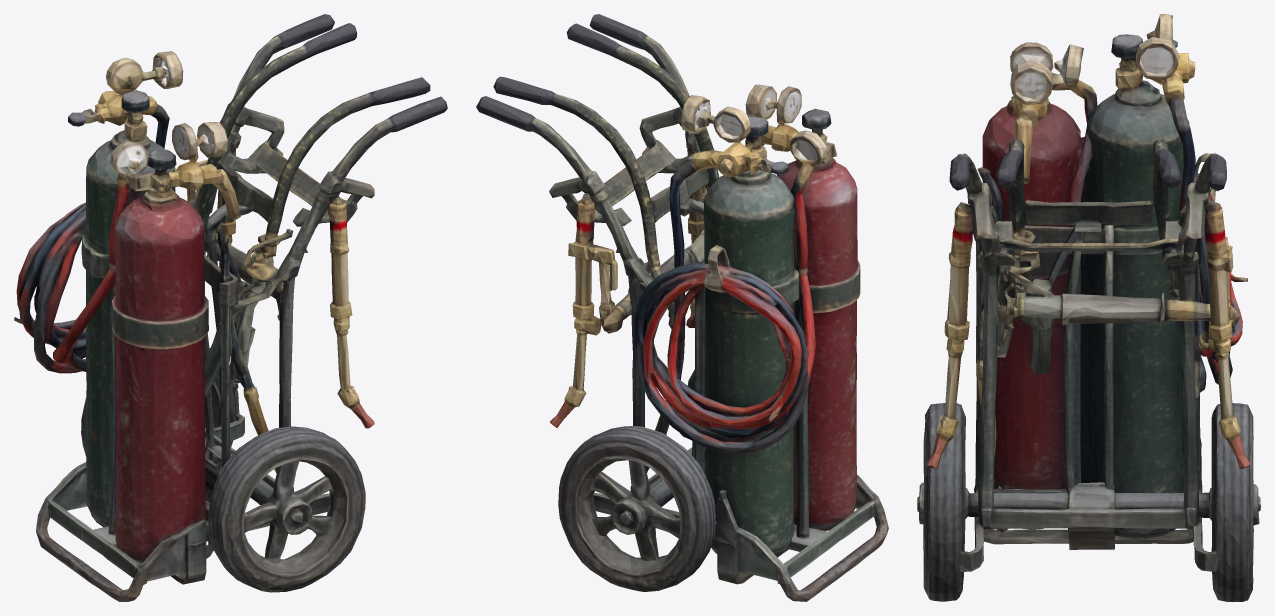
File: weldcart.obj
3 views of the same model, side by side, from view 1: azimuth 30°, elevation 25°; view 2: azimuth 150°, elevation 25°; view 3: azimuth 270°, elevation 25° (orthographic). The views are drawn at different scales.
Visible parts, largest first — view 1: weldcart; view 2: weldcart; view 3: weldcart.
Part boxes in pixels (x1=…): weldcart: x1=14, y1=14, x2=447, y2=601; weldcart: x1=476, y1=14, x2=888, y2=601; weldcart: x1=917, y1=14, x2=1260, y2=601.
Bounding box in the file's own units: 1.04 × 1.45 × 0.8394.
Materials: 1 (1 with a texture image).
